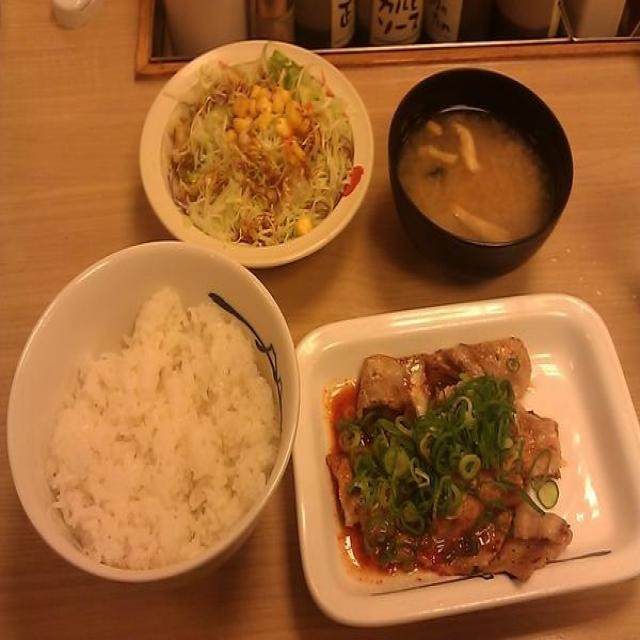汤锅炖物: (382, 58, 573, 274)
米饭主食: (2, 242, 300, 577)
蔬菜料理: (142, 31, 371, 266)
